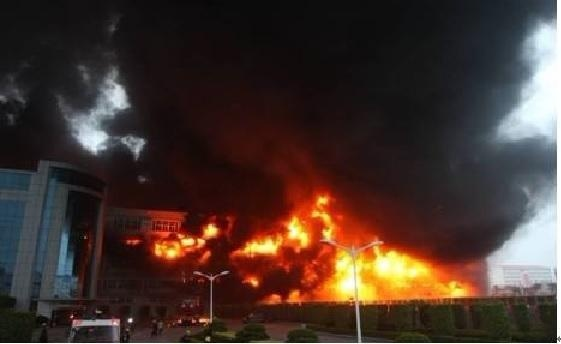fire: (131, 189, 485, 302)
